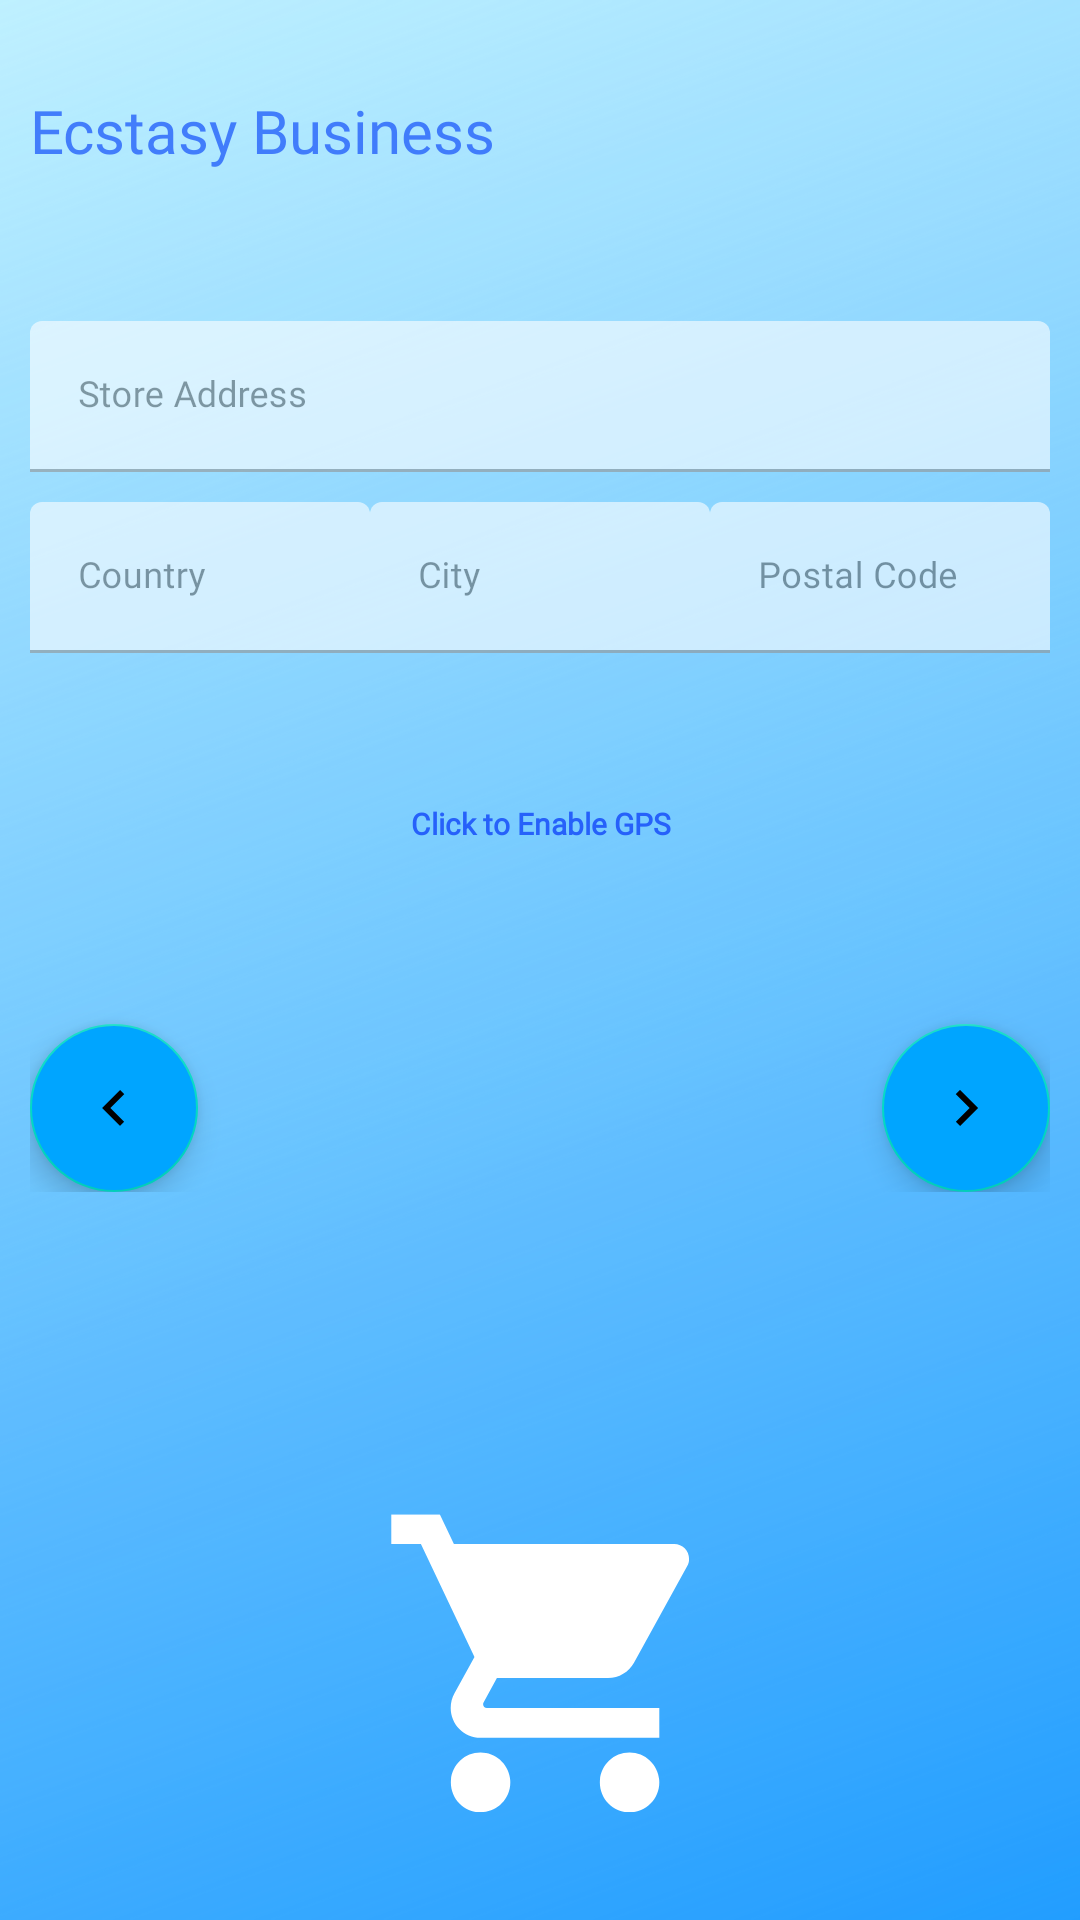

Point at icon controls on the screen. Image size 1080w x 1920h, points as [x,y].
next: [966,1108]
previous: [114,1108]
